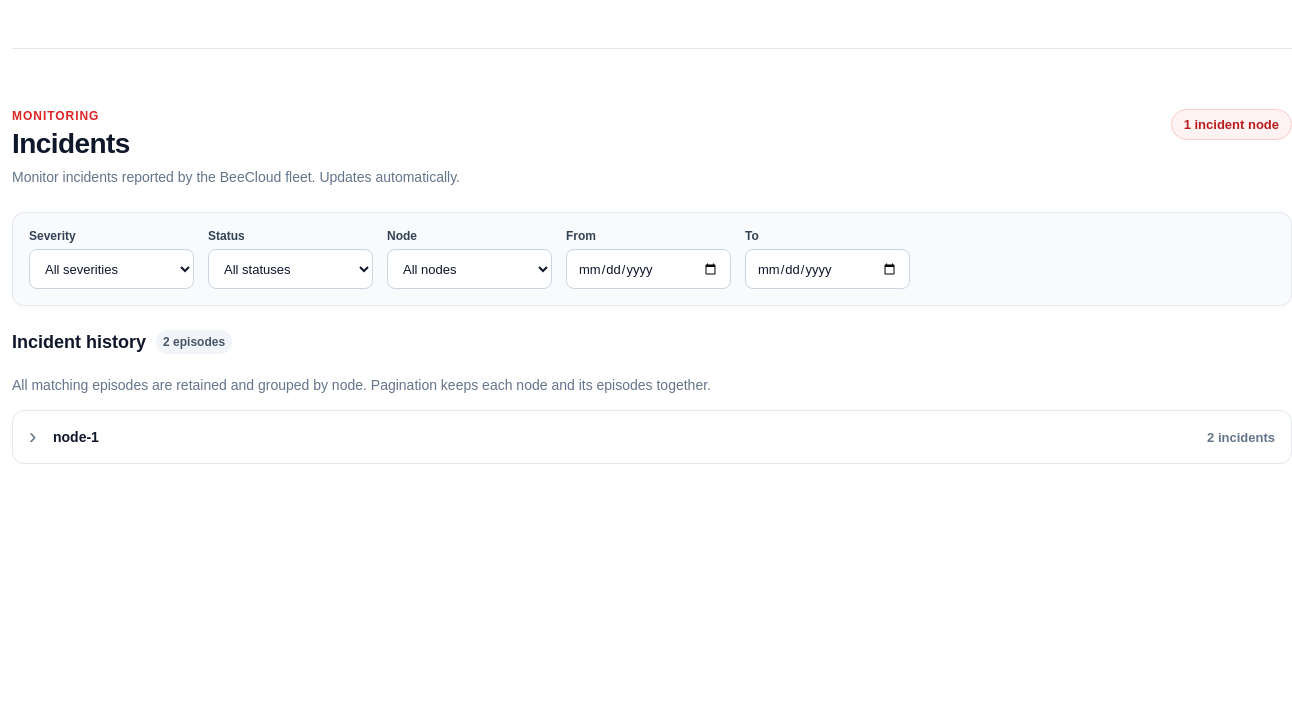
Test: IncidentsSection › groups all resolved episodes under their node in history
Expected: the heading "Incident history" is shown, [12,332,146,352]
Click the heading "node-1 2 incidents" at (76, 437), box [53,429,1275,445]
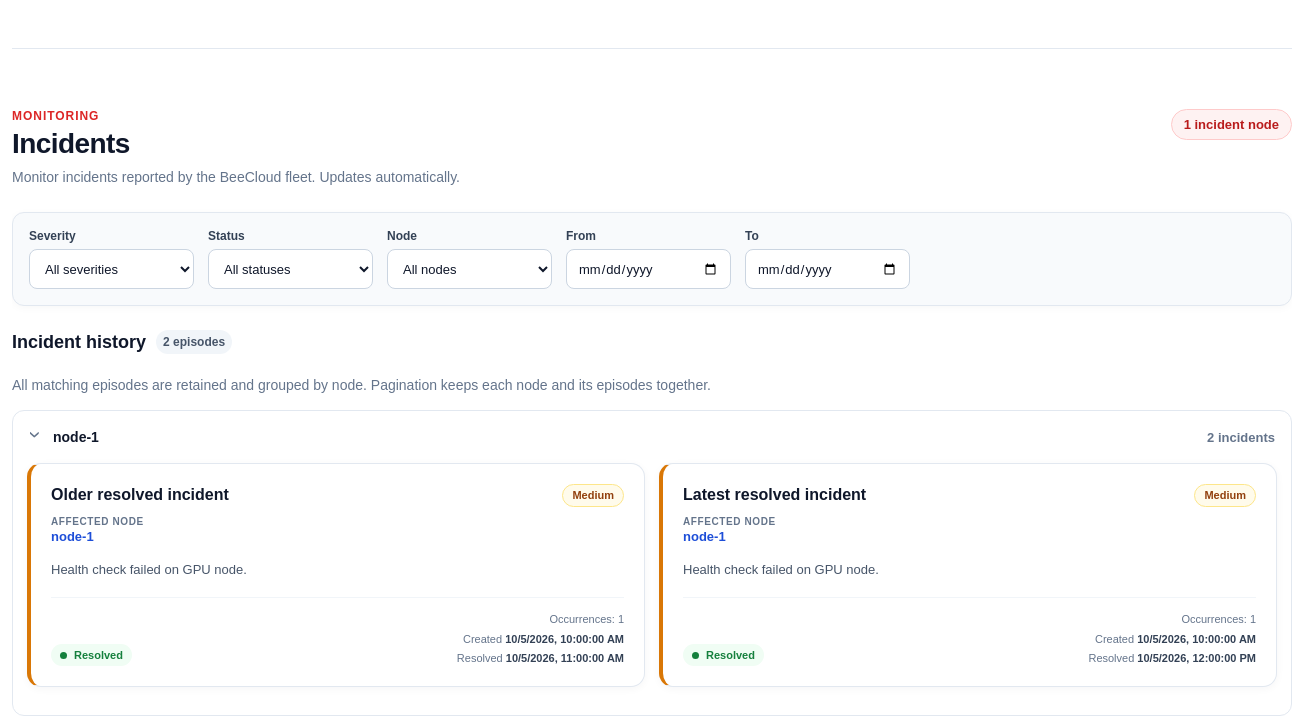
Expected: the heading "Latest resolved incident" is shown, [683,484,866,506]
Expected: the heading "Older resolved incident" is shown, [51,484,229,506]
